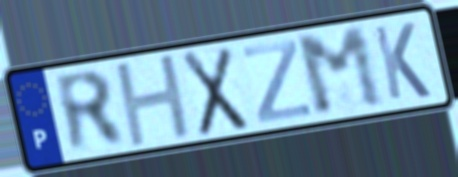H: (111, 50, 196, 152)
K: (370, 20, 434, 103)
M: (292, 23, 389, 120)
R: (50, 68, 131, 158)
X: (179, 43, 252, 140)
Z: (240, 36, 314, 127)
